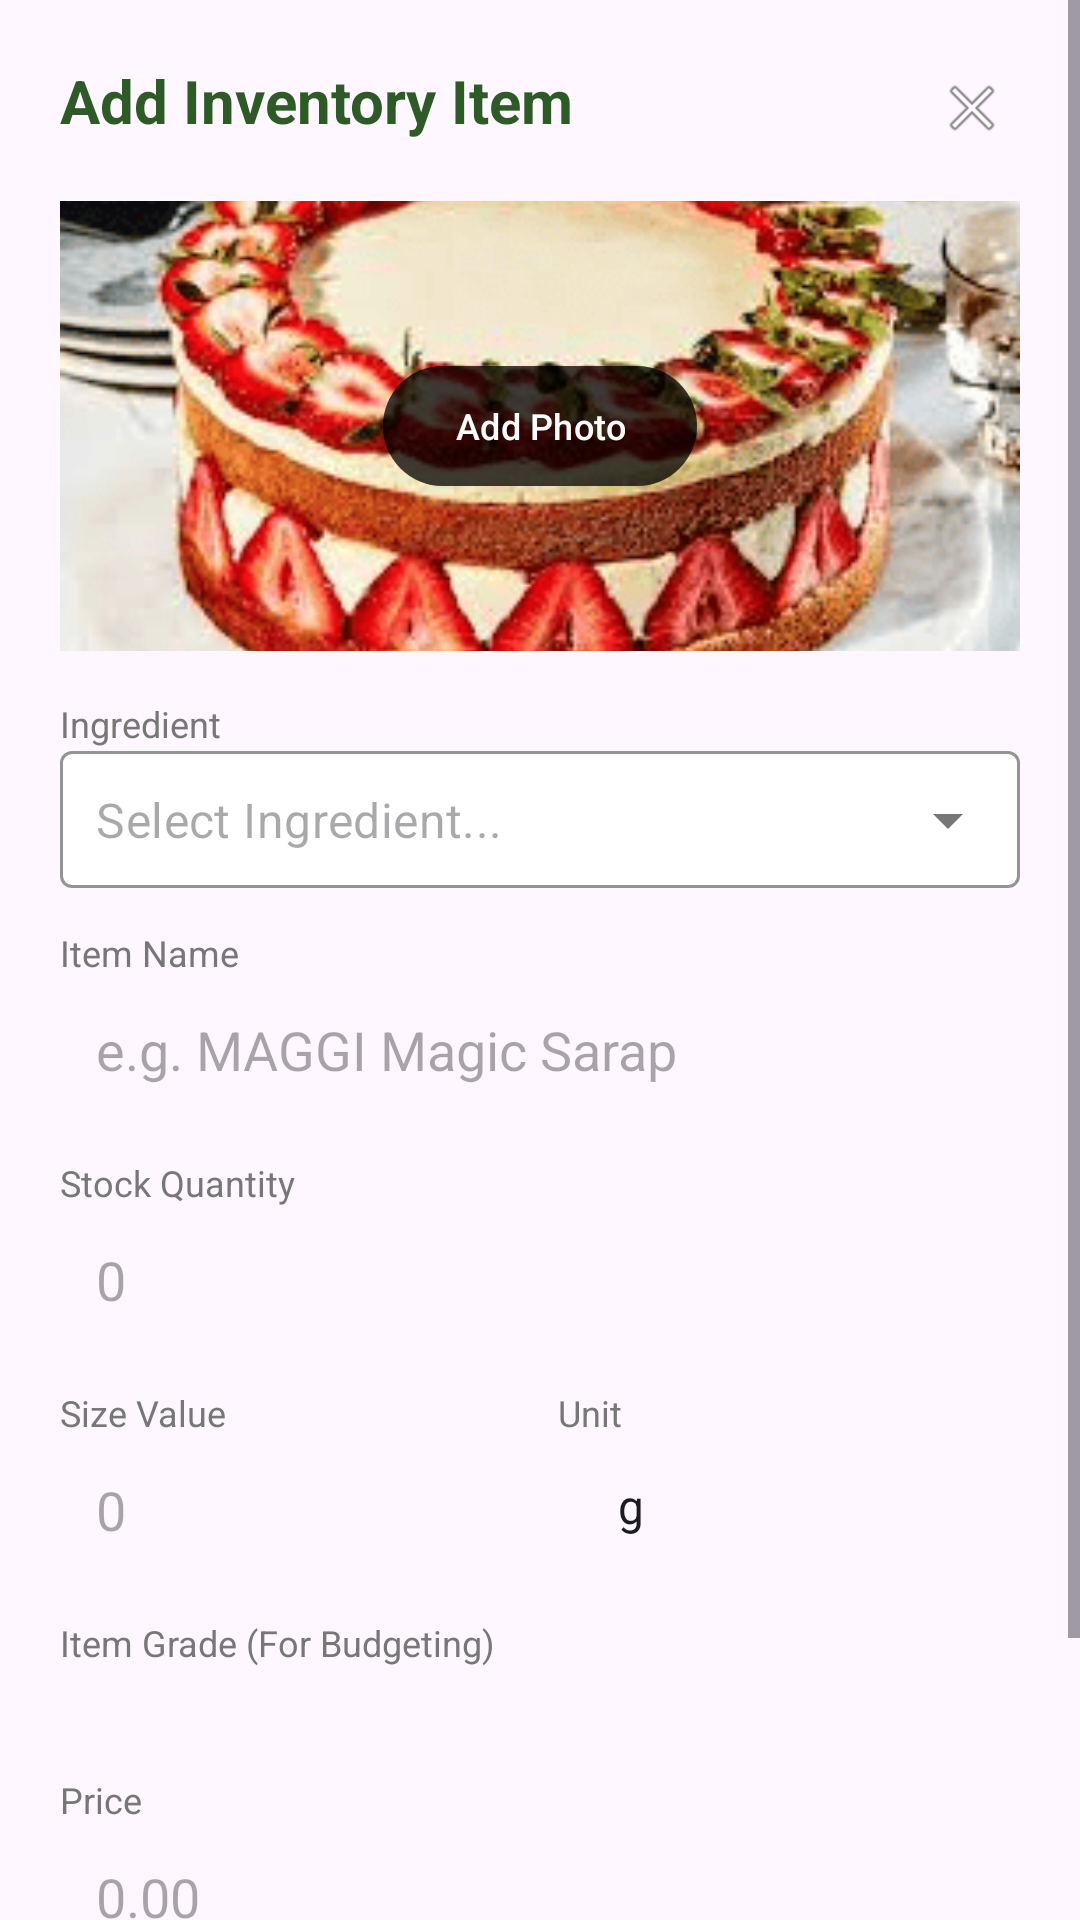

Icon bounding boxes for this 1080 x 1920 phone screenshot, format (x1, y1, x2, y2):
Close: (949, 85, 995, 131)
